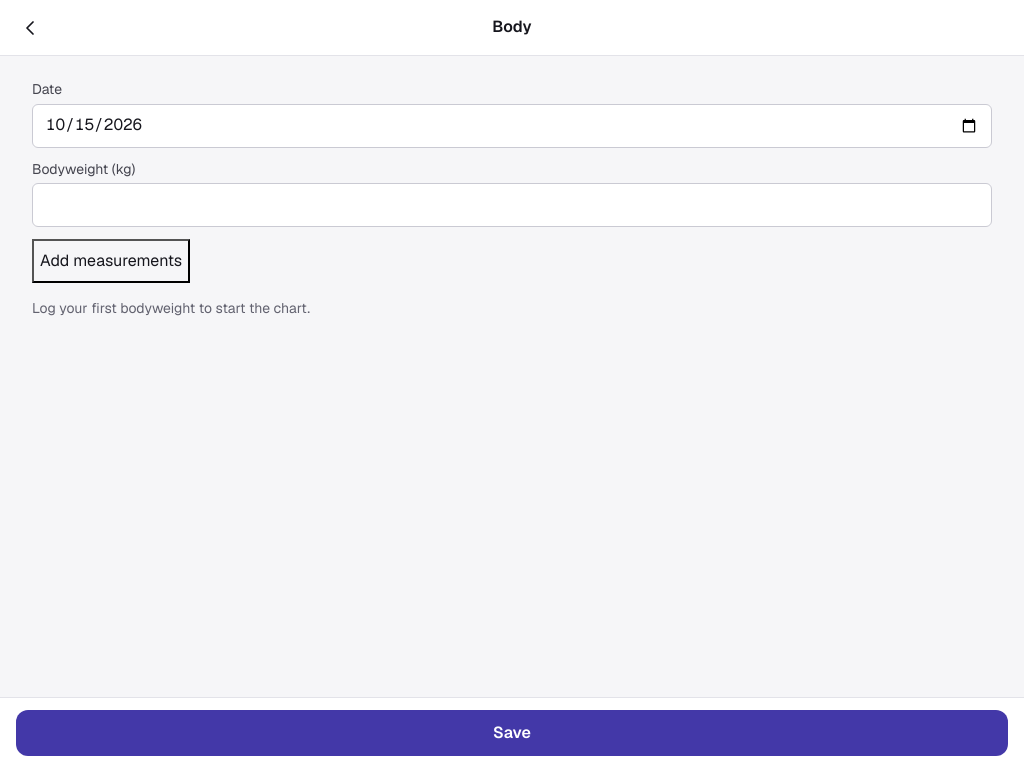
E22-T7 O17 logging a bodyweight › O17 a bodyweight for today is stored, listed and charted
Expected: the date field labelled "Date" holds "2026-10-15", 32,104 -> 992,148
Type "80" into the number field labelled "Bodyweight (kg)" at (512,205), box 32,183 -> 992,227
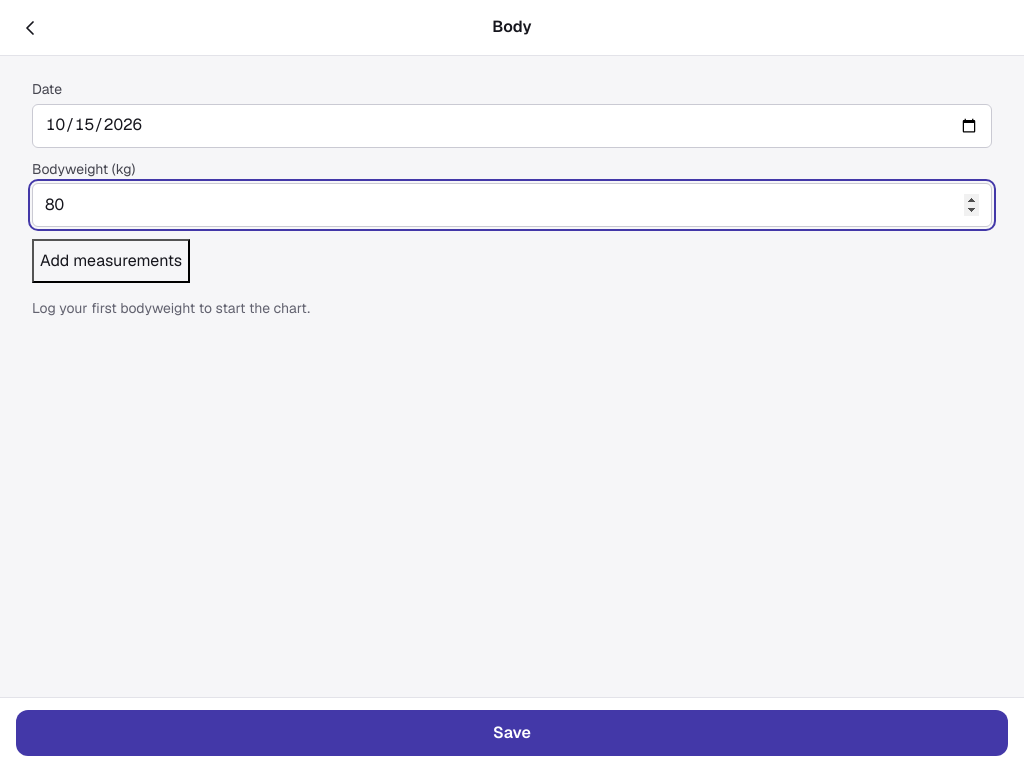
Click the button "Save" at (512,733), box 16,710 -> 1008,756
(page scrolled)
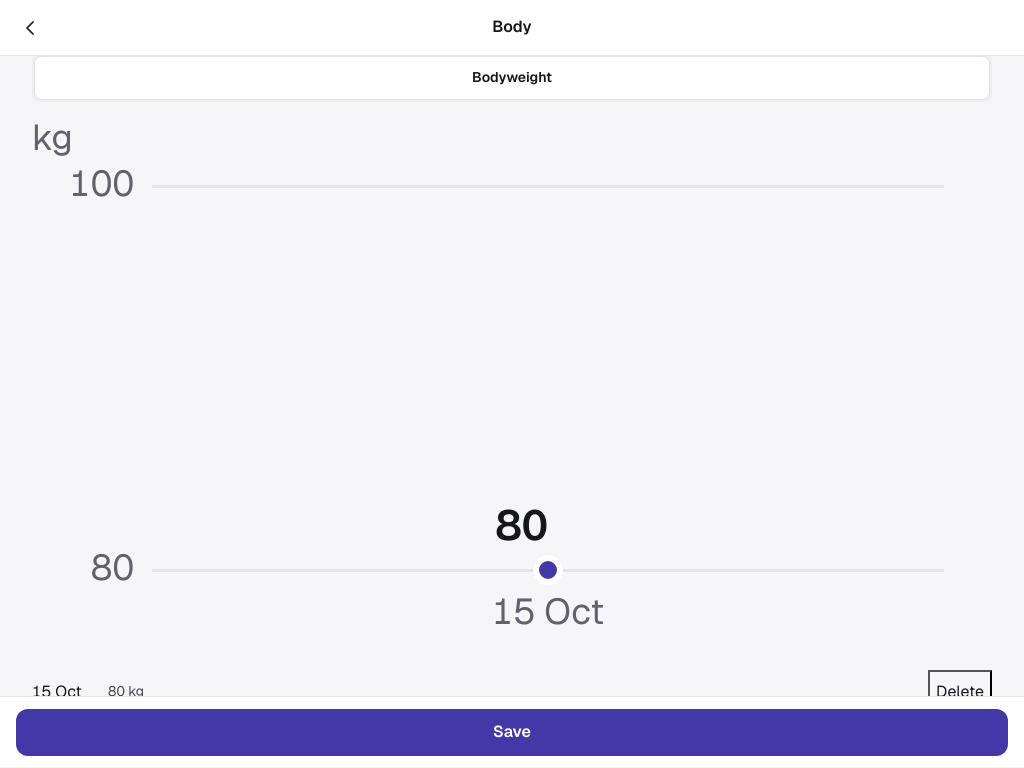
Now the text "15 Oct" is shown, box 32,681 -> 82,702
Now the text "80 kg" is shown, box 108,682 -> 144,700
Now the picture named "Bodyweight chart" is shown
